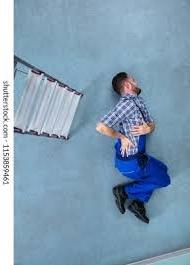fall: (76, 94, 189, 201)
